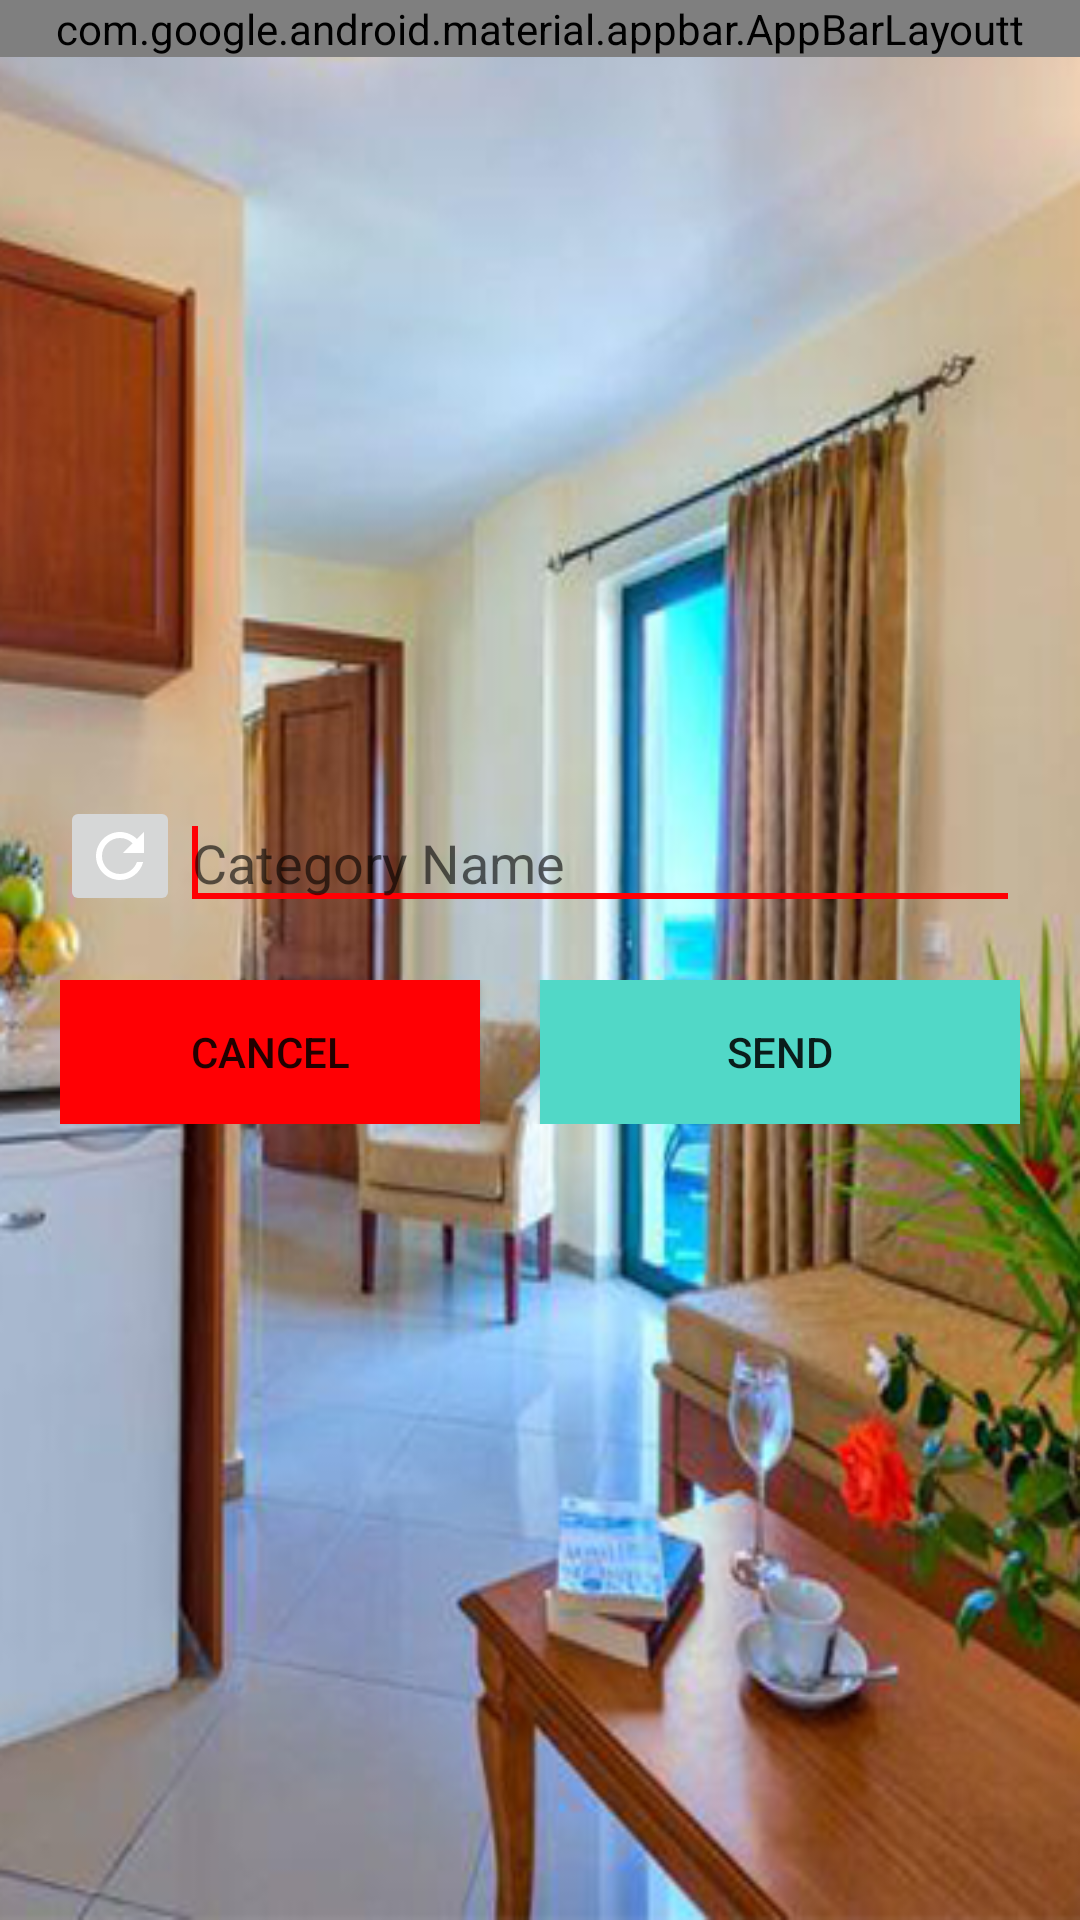

Locate icon controls on the screen. Image size 1080x1920, boxes as (x1, y1, x2, y2).
reset: (63, 814, 168, 898)
